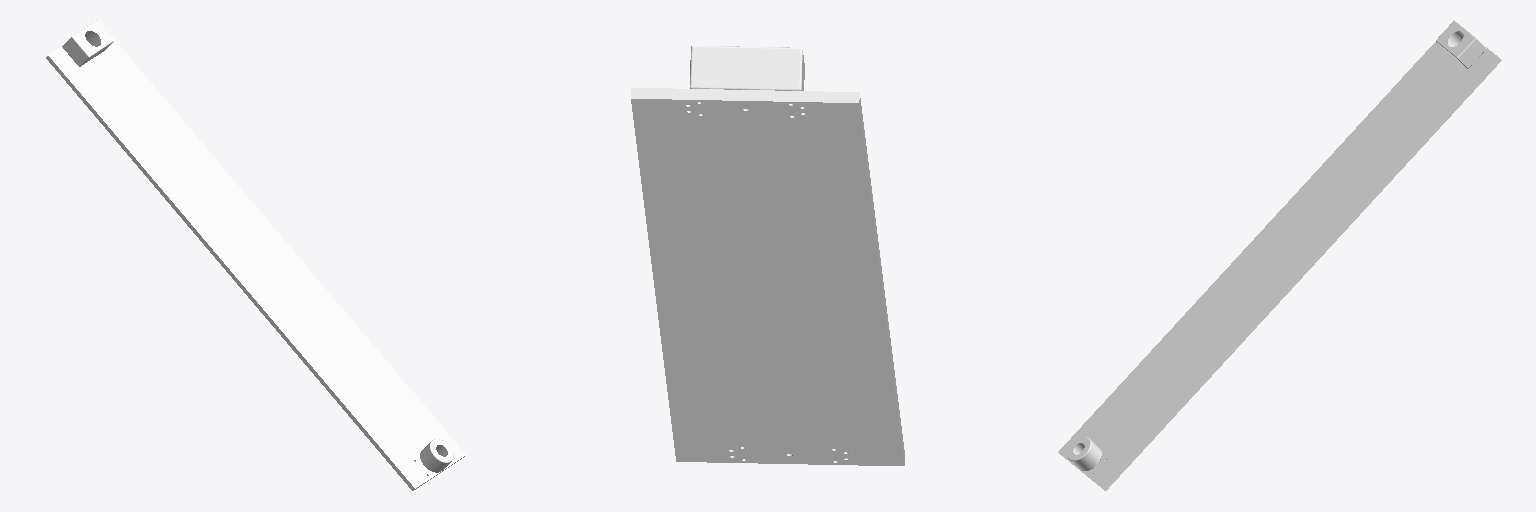
URDF robot description (HumanHandleBoard):
<?xml version="1.0" encoding="utf-8"?>
<!-- This URDF was automatically created by SolidWorks to URDF Exporter! Originally created by [author] ([email redacted]) 
     Commit Version: 1.6.0-1-g15f4949  Build Version: 1.6.7594.29634
     For more information, please see http://wiki.ros.org/sw_urdf_exporter -->
<robot
  name="HumanHandleBoard">
  <link
    name="base_link">
    <inertial>
      <origin
        xyz="-0.12883 -2.2204E-16 -0.011211"
        rpy="0 0 0" />
      <mass
        value="1.0861" />
      <inertia
        ixx="0.0019101"
        ixy="7.6253E-18"
        ixz="2.3852E-18"
        iyy="0.046217"
        iyz="-2.2057E-18"
        izz="0.047935" />
    </inertial>
    <visual>
      <origin
        xyz="0 0 0"
        rpy="0 0 0" />
      <geometry>
        <mesh
          filename="package://HumanHandleBoard/meshes/base_link.STL" />
      </geometry>
      <material
        name="">
        <color
          rgba="1 1 1 1" />
      </material>
    </visual>
    <collision>
      <origin
        xyz="0 0 0"
        rpy="0 0 0" />
      <geometry>
        <mesh
          filename="package://HumanHandleBoard/meshes/base_link.STL" />
      </geometry>
    </collision>
  </link>
  <link
    name="human_link">
    <inertial>
      <origin
        xyz="0.32242 -0.0051651 0.32808"
        rpy="0 0 0" />
      <mass
        value="60" />
      <inertia
        ixx="0.0061341"
        ixy="-0.00010836"
        ixz="-3.3719E-06"
        iyy="0.00011963"
        iyz="-0.00020972"
        izz="0.0061302" />
    </inertial>
    <visual>
      <origin
        xyz="0 0 0"
        rpy="0 0 0" />
      <geometry>
        <mesh
          filename="package://HumanHandleBoard/meshes/human_link.STL" />
      </geometry>
      <material
        name="">
        <color
          rgba="0.79216 0.81961 0.93333 1" />
      </material>
    </visual>
    <collision>
      <origin
        xyz="0 0 0"
        rpy="0 0 0" />
      <geometry>
        <mesh
          filename="package://HumanHandleBoard/meshes/human_link.STL" />
      </geometry>
    </collision>
  </link>
  <joint
    name="BoardToHuman"
    type="fixed">
    <origin
      xyz="0.57 0 -0.04"
      rpy="0 0 0" />
    <parent
      link="base_link" />
    <child
      link="human_link" />
    <axis
      xyz="0 0 0" />
  </joint>
</robot>

--- What the picture shows (computed from the rendered views, not written in the file) ---
3 views of the same robot in one strip: view 1: azimuth 30°, elevation 25°; view 2: azimuth 150°, elevation 25°; view 3: azimuth 270°, elevation 25° (orthographic).
Model HumanHandleBoard with 2 links and 1 joints (1 fixed), rooted at base_link, posed every joint at zero.
Links seen in each view (by area): view 1: base_link; view 2: base_link; view 3: base_link.
Boxes of the visible links, x1,y1,x2,y2 form: base_link: [46, 20, 465, 490]; base_link: [631, 46, 904, 465]; base_link: [1058, 20, 1501, 490].
Bounding box of the posed robot: 0.6031 × 0.9093 × 0.8134 m (x, y, z).
Meshes: 2 distinct files referenced, 1 mesh visuals loaded (1 binary STL); not drawn: 1 (reference not matched to a file when rendering).